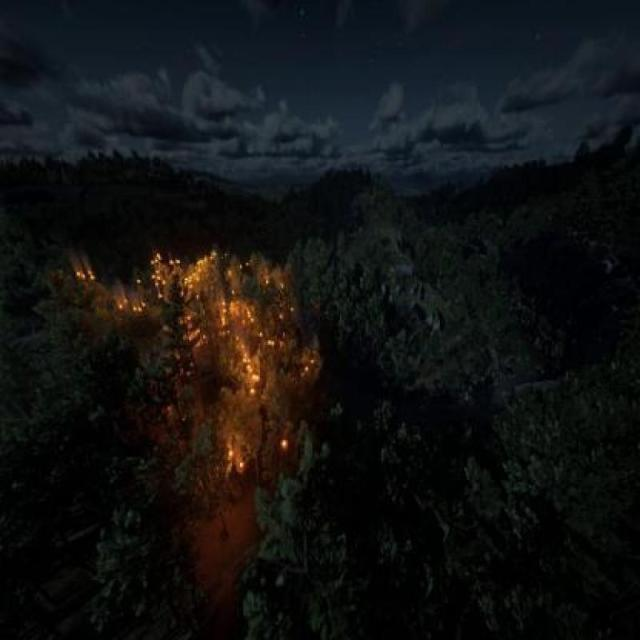Fire: (53, 232, 330, 528)
